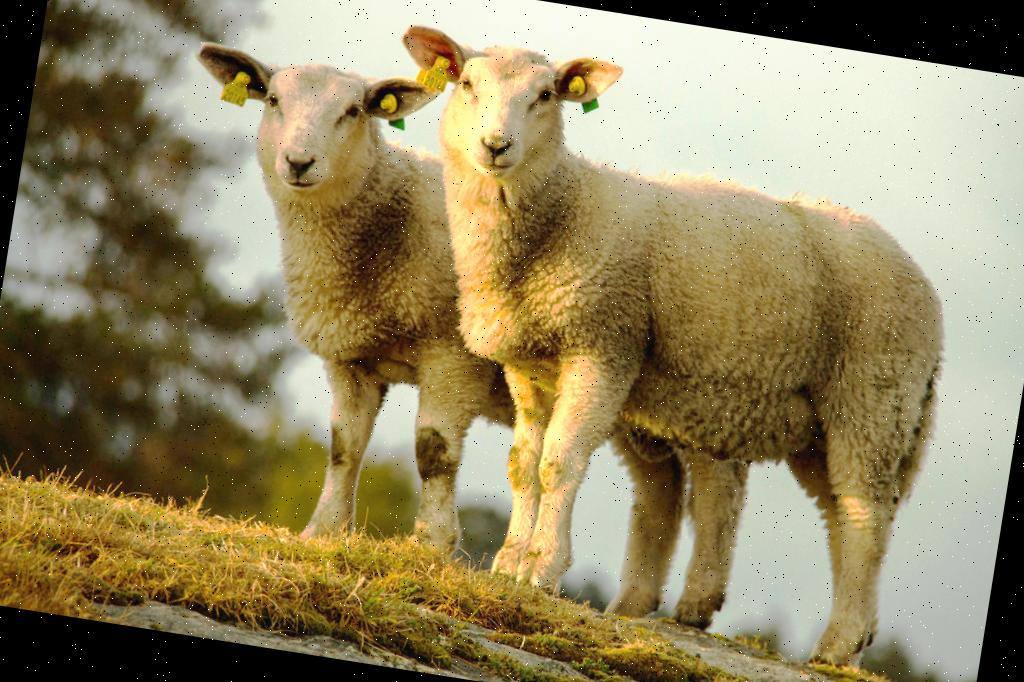Sheep: (320, 24, 987, 652), (120, 42, 744, 623)
